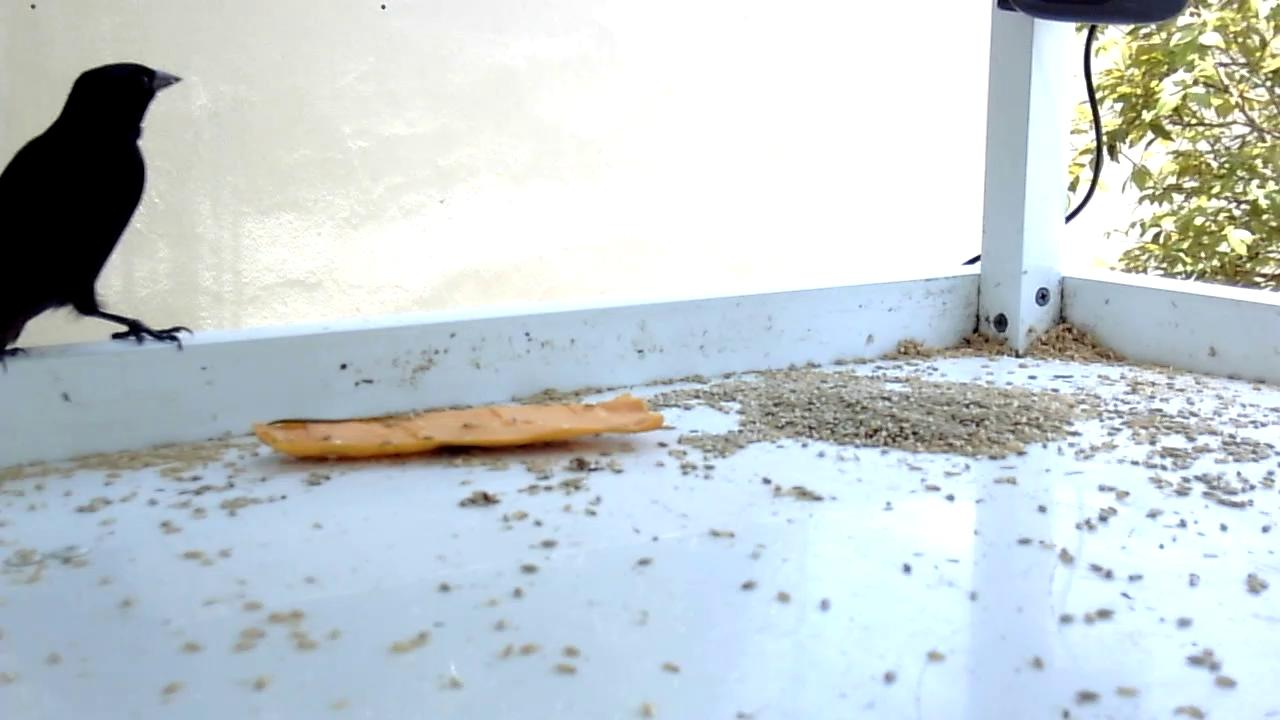chupim: (1, 57, 199, 377)
